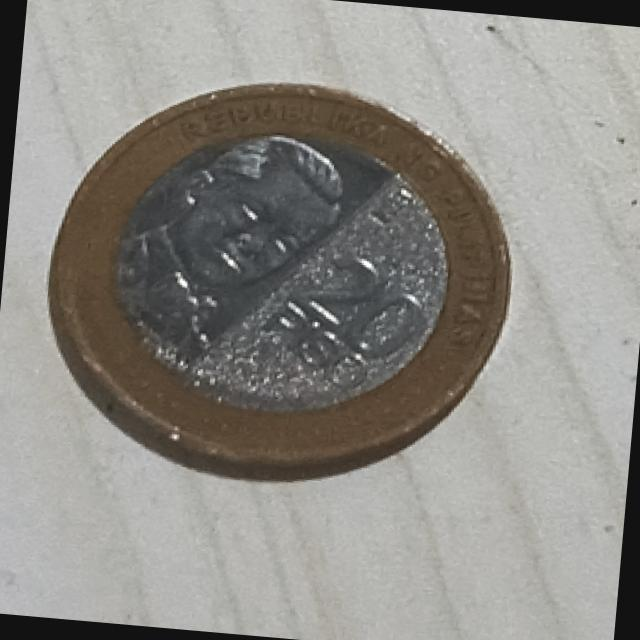20_peso: (52, 84, 508, 477)
